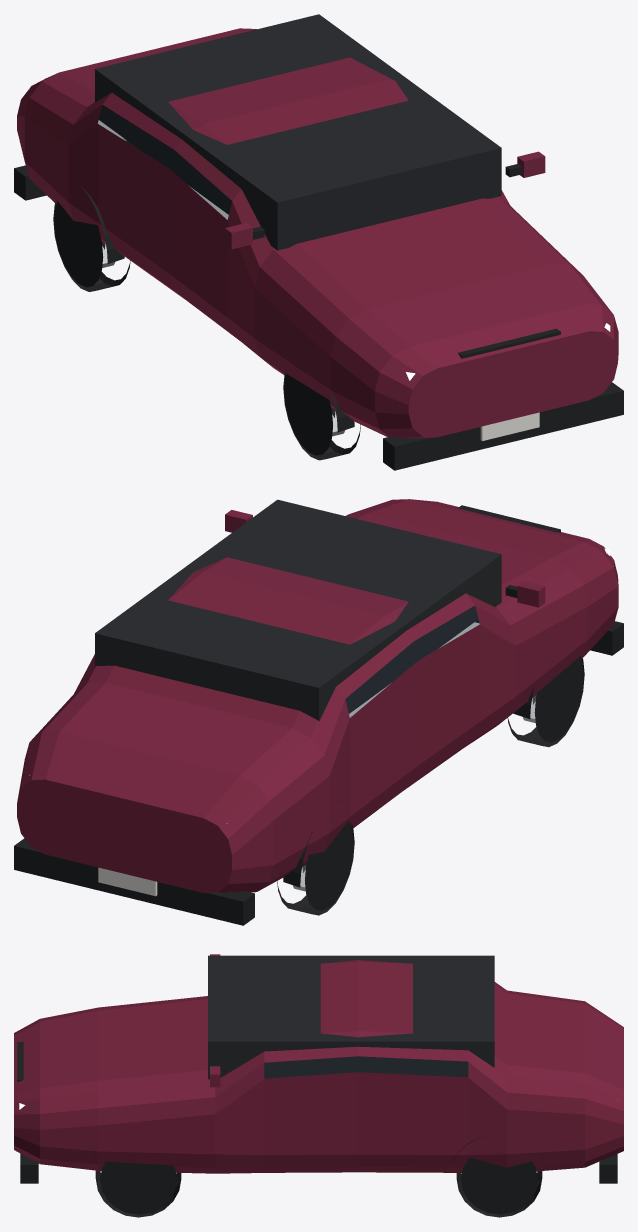
File: sedan.glb
3 views of the same model, one above another, from view 1: azimuth 30°, elevation 25°; view 2: azimuth 150°, elevation 25°; view 3: azimuth 270°, elevation 25° (orthographic). The views are drawn at different scales.
Parts seen in each view (by area): view 1: body, wheel_RL, wheel_FL; view 2: body, wheel_RL, wheel_FL; view 3: body, wheel_RR, wheel_FR.
Boxes of the visible parts, x1=… form: body: x1=14, y1=14, x2=623, y2=470; wheel_RL: x1=53, y1=200, x2=130, y2=291; wheel_FL: x1=283, y1=373, x2=360, y2=460; body: x1=14, y1=499, x2=623, y2=925; wheel_RL: x1=277, y1=820, x2=354, y2=915; wheel_FL: x1=507, y1=655, x2=584, y2=747; body: x1=14, y1=954, x2=623, y2=1183; wheel_RR: x1=456, y1=1157, x2=542, y2=1217; wheel_FR: x1=95, y1=1161, x2=181, y2=1217.
Size of the model in its own units: 2.19 by 1.48 by 4.7.
